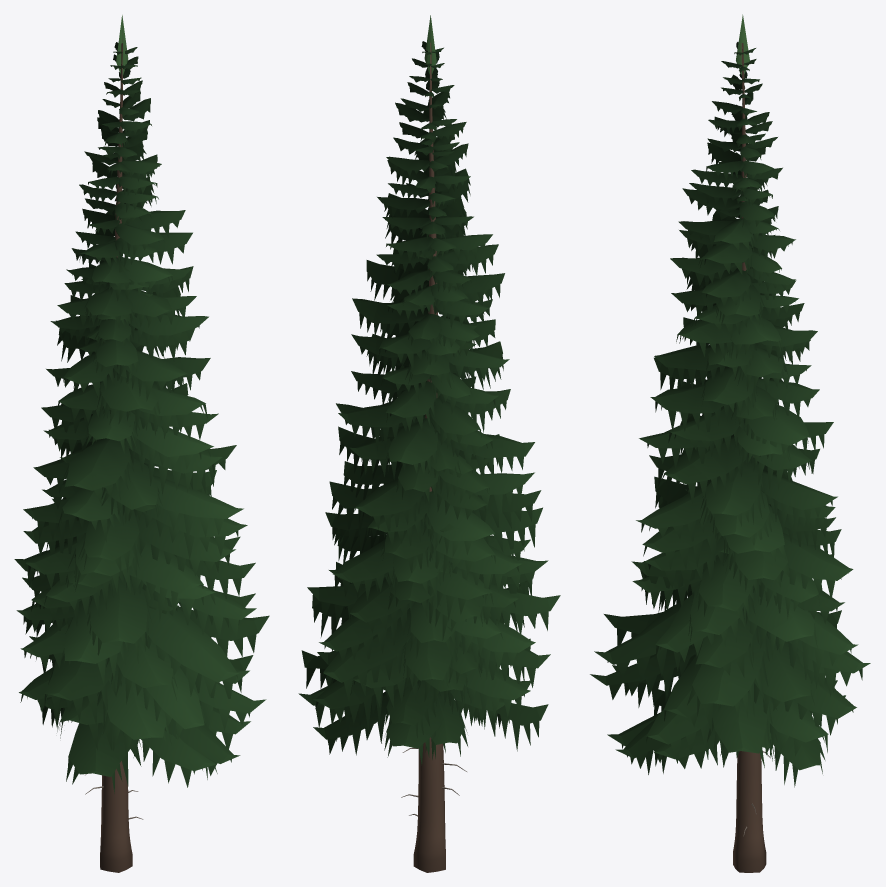
The model's file is spruce_b.glb.
3 views of the same model, side by side, from view 1: azimuth 30°, elevation 25°; view 2: azimuth 150°, elevation 25°; view 3: azimuth 270°, elevation 25° (orthographic).
Parts seen in each view (by area): view 1: LOD0; view 2: LOD0; view 3: LOD0.
Boxes of the visible parts, x1,y1,x2,y2 form: LOD0: (14,15,269,872); LOD0: (298,15,560,872); LOD0: (590,14,870,872).
Size of what is drawn, in the model's own units: 6.94 by 23.86 by 7.14.
